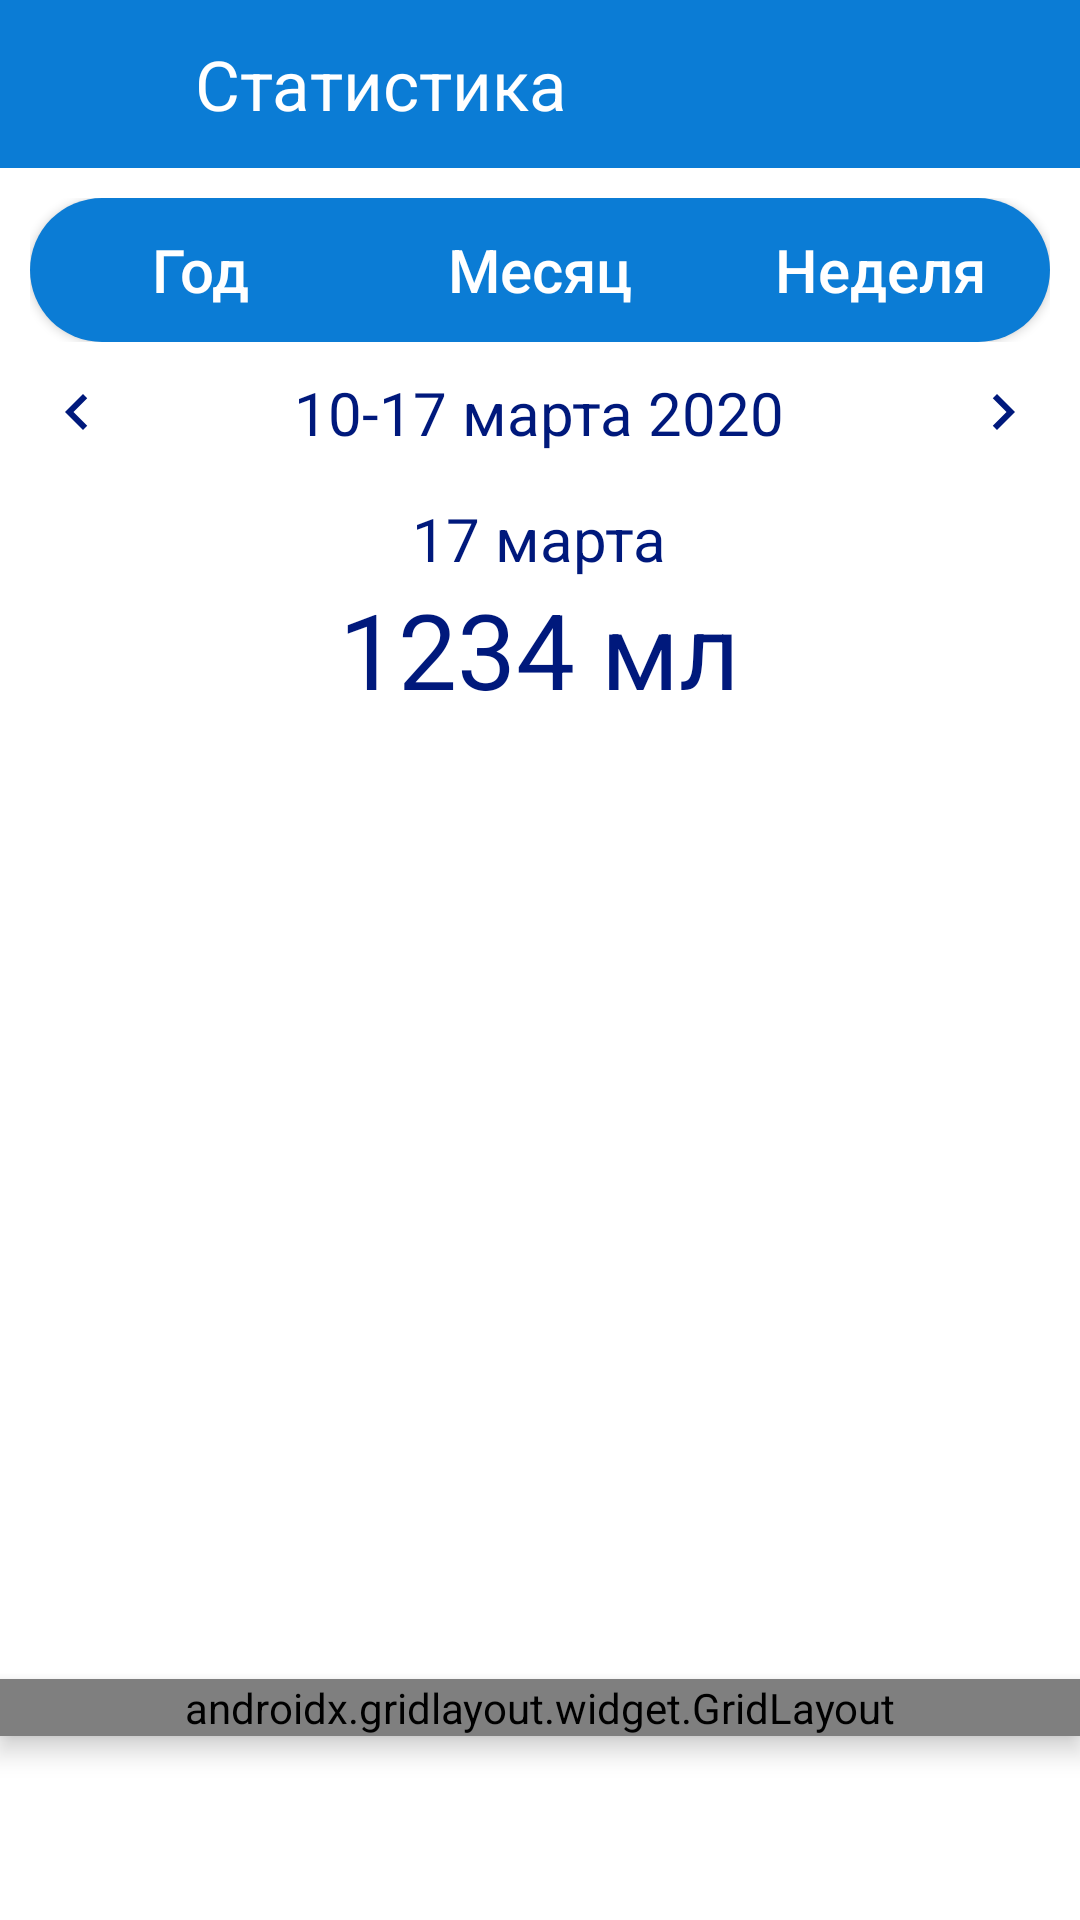

Icons on this 1080*1920 Android screen, each with its box as (left=x1, top=y1, right=x2, bottom=y2):
chevron left: (left=65, top=394, right=87, bottom=430)
chevron right: (left=993, top=394, right=1015, bottom=430)
